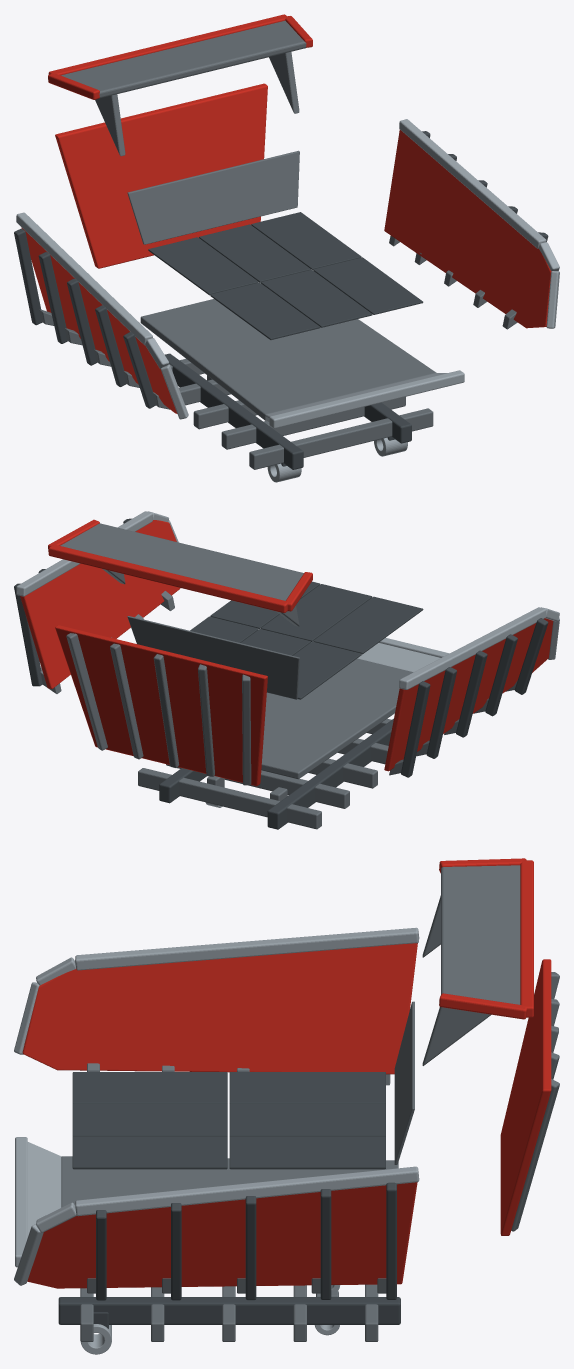
File: rexard-truck-body.glb
3 views of the same model, one above another, from view 1: azimuth 30°, elevation 25°; view 2: azimuth 150°, elevation 25°; view 3: azimuth 270°, elevation 25° (orthographic). The views are drawn at different scales.
Visible parts, largest first — view 1: TP10 | Front bulkhead, TP01 | Main load floor, TP04R | Sloped sidewall plate, TP23 | Front impact liner, TP12 | Cab protection canopy, TP04L | Sloped sidewall plate, TP22.02.01 | Floor wear liner, TP22.02.02 | Floor wear liner, TP22.01.02 | Floor wear liner, TP22.01.01 | Floor wear liner, TP22.03.01 | Floor wear liner, TP22.03.02 | Floor wear liner (+19 smaller); view 2: TP10 | Front bulkhead, TP01 | Main load floor, TP04R | Sloped sidewall plate, TP12 | Cab protection canopy, TP04L | Sloped sidewall plate, TP23 | Front impact liner, TP13 | Canopy forward rim, TP22.01.01 | Floor wear liner, TP17.05 | Underbody crossmember, TP22.02.01 | Floor wear liner, TP16 | Longitudinal underframe -1.12, TP05L | Upper side rail (+23 smaller); view 3: TP04L | Sloped sidewall plate, TP04R | Sloped sidewall plate, TP12 | Cab protection canopy, TP16 | Longitudinal underframe 1.12, TP10 | Front bulkhead, TP01 | Main load floor, TP05L | Upper side rail, TP05R | Upper side rail, TP22.02.02 | Floor wear liner, TP22.03.02 | Floor wear liner, TP22.02.01 | Floor wear liner, TP22.03.01 | Floor wear liner (+24 smaller).
Part boxes in pixels (box(x1,y1,x2,y2)): TP10 | Front bulkhead: box(55, 83, 267, 268); TP01 | Main load floor: box(140, 299, 436, 420); TP04R | Sloped sidewall plate: box(384, 129, 551, 328); TP23 | Front impact liner: box(127, 150, 299, 244); TP12 | Cab protection canopy: box(61, 20, 306, 98); TP04L | Sloped sidewall plate: box(21, 227, 177, 413); TP22.02.01 | Floor wear liner: box(261, 269, 372, 327); TP22.02.02 | Floor wear liner: box(199, 224, 310, 282); TP22.01.02 | Floor wear liner: box(148, 237, 258, 295); TP22.01.01 | Floor wear liner: box(210, 282, 320, 339); TP22.03.01 | Floor wear liner: box(313, 257, 423, 314); TP22.03.02 | Floor wear liner: box(251, 212, 361, 269); TP10 | Front bulkhead: box(55, 625, 267, 786); TP01 | Main load floor: box(261, 658, 412, 779); TP04R | Sloped sidewall plate: box(20, 520, 180, 688); TP12 | Cab protection canopy: box(60, 523, 303, 600); TP04L | Sloped sidewall plate: box(384, 618, 553, 771); TP23 | Front impact liner: box(127, 616, 299, 699); TP13 | Canopy forward rim: box(48, 544, 287, 612); TP22.01.01 | Floor wear liner: box(313, 596, 423, 654); TP17.05 | Underbody crossmember: box(138, 768, 321, 829); TP22.02.01 | Floor wear liner: box(261, 584, 372, 641); TP16 | Longitudinal underframe -1.12: box(267, 718, 393, 829); TP05L | Upper side rail: box(399, 607, 546, 689); TP04L | Sloped sidewall plate: box(22, 943, 417, 1074); TP04R | Sloped sidewall plate: box(27, 1182, 417, 1288); TP12 | Cab protection canopy: box(441, 865, 520, 1004); TP16 | Longitudinal underframe 1.12: box(58, 1297, 400, 1324); TP10 | Front bulkhead: box(500, 959, 551, 1235); TP01 | Main load floor: box(61, 1156, 398, 1207); TP05L | Upper side rail: box(75, 927, 419, 970); TP05R | Upper side rail: box(75, 1166, 419, 1216); TP22.02.02 | Floor wear liner: box(229, 1103, 385, 1136); TP22.03.02 | Floor wear liner: box(229, 1136, 385, 1169); TP22.02.01 | Floor wear liner: box(72, 1103, 227, 1136); TP22.03.01 | Floor wear liner: box(72, 1136, 227, 1169).
Size of the model in its own units: 8.73 by 5.97 by 7.65.
